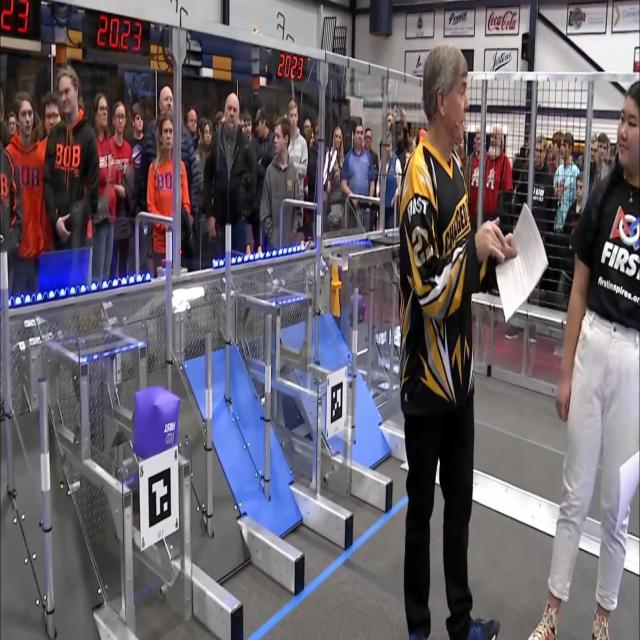frc_cone: (331, 283, 343, 319), (330, 262, 343, 292)
frc_cube: (132, 386, 180, 462), (348, 289, 364, 326)
